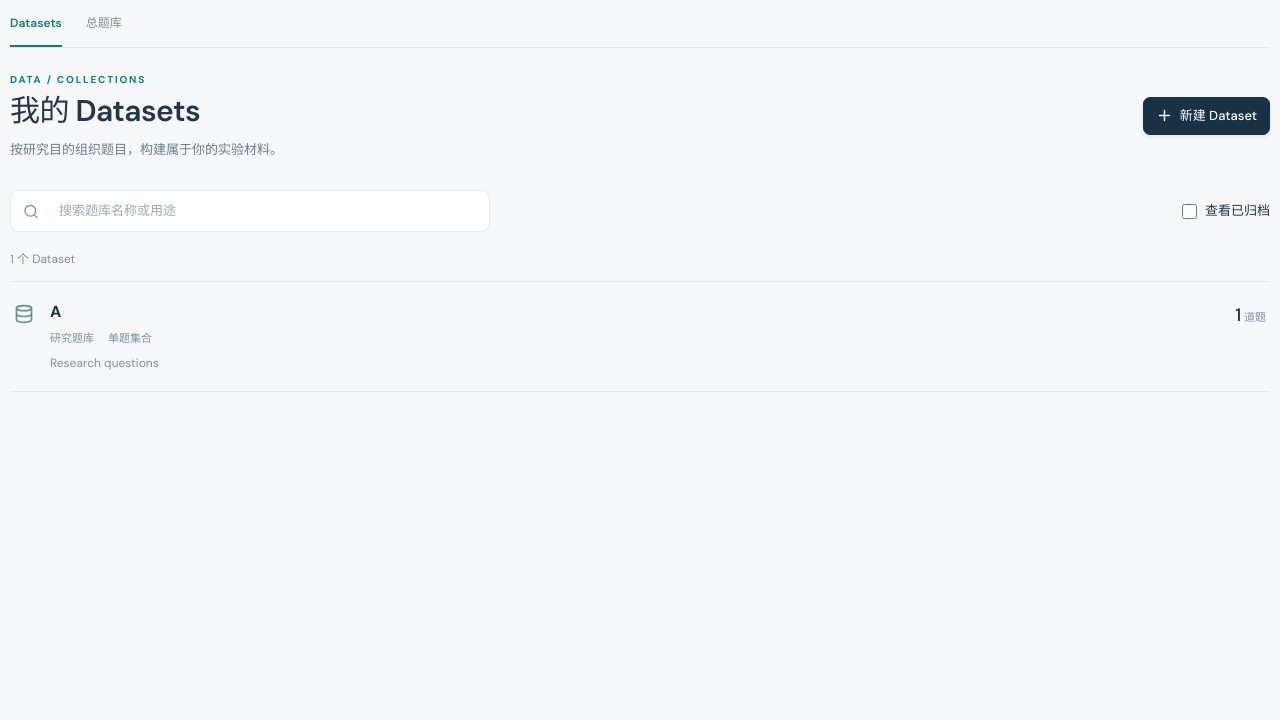
keeps Dataset additions and maintenance inside their two menus
Click the button named "打开 Dataset A".
click(55, 311)  # box 50,300 -> 1219,324
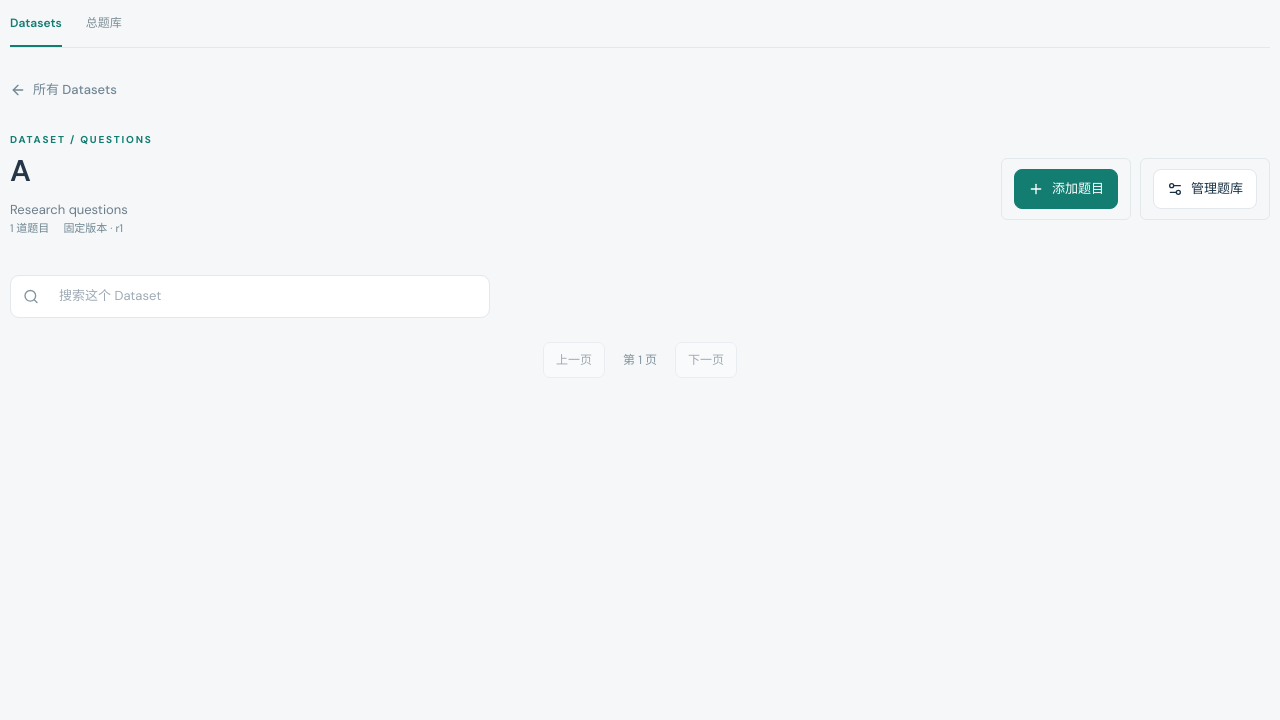
Expected: the heading "A" is shown, 10,151 -> 30,190
Click the heading "添加题目".
click(1066, 189)  # box 1014,168 -> 1118,209
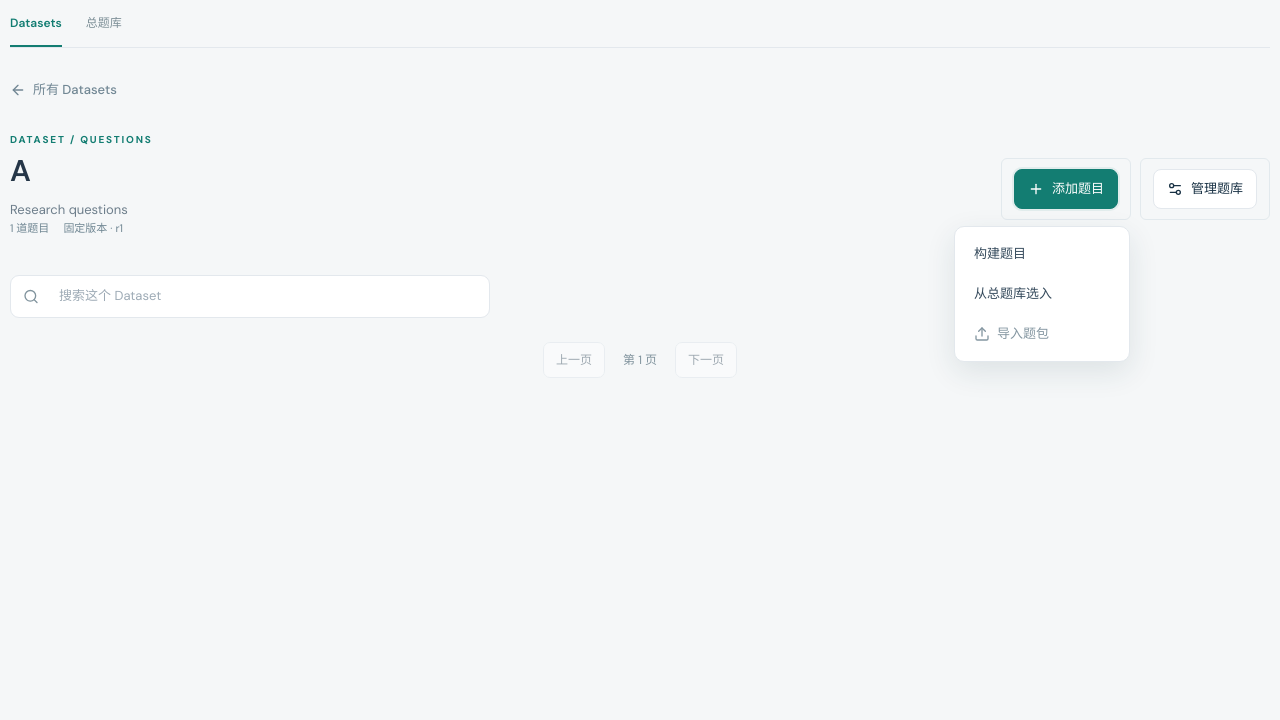
Now the button "构建题目" is shown, box 962,234 -> 1122,274
Now the button "从总题库选入" is shown, box 962,274 -> 1122,314
Click the heading "管理题库".
click(1205, 189)  # box 1153,168 -> 1257,209
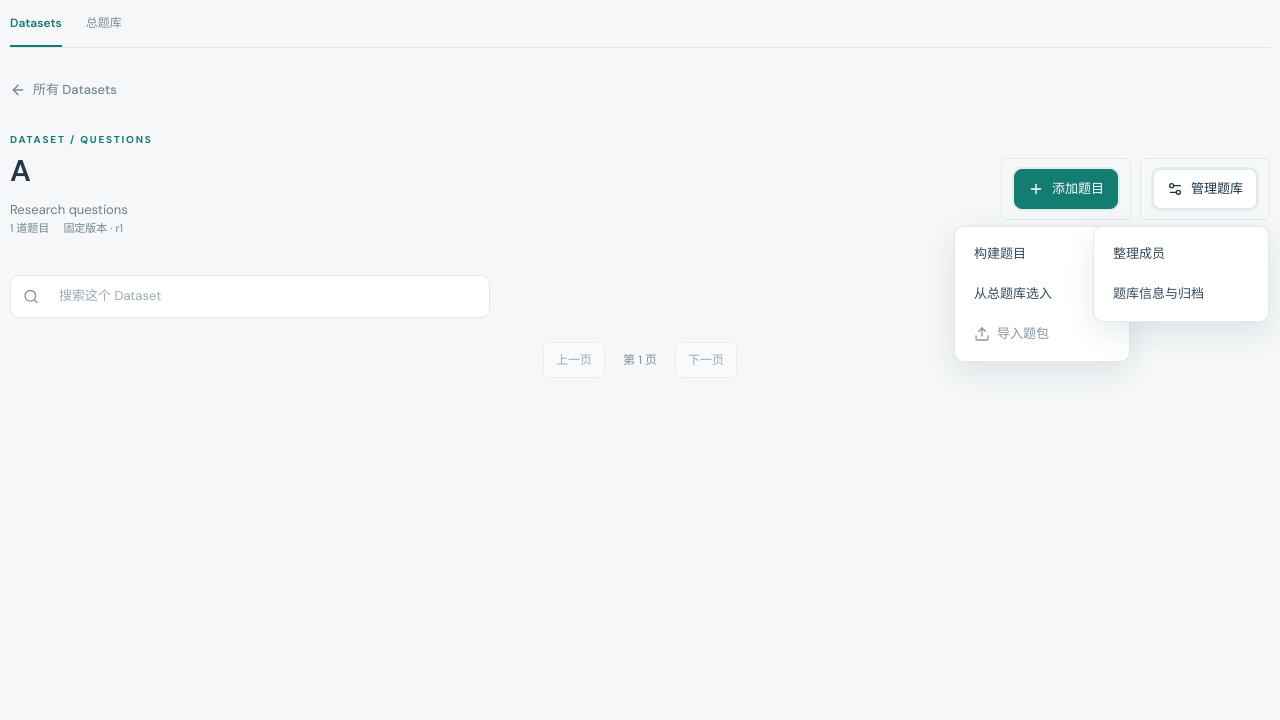
Click the button "题库信息与归档".
click(1181, 294)  # box 1101,274 -> 1261,314
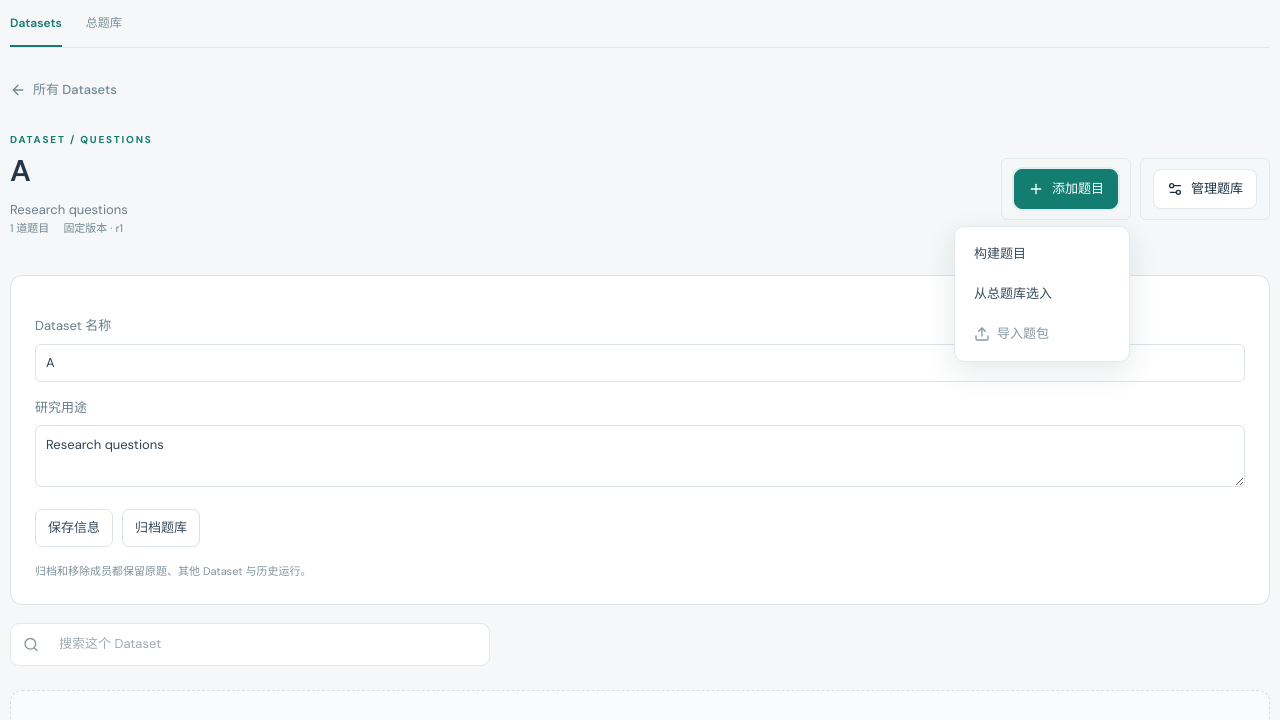
Now the field labelled "Dataset 名称" is shown, box 35,344 -> 1245,382
Now the button "归档题库" is shown, box 122,509 -> 200,547
